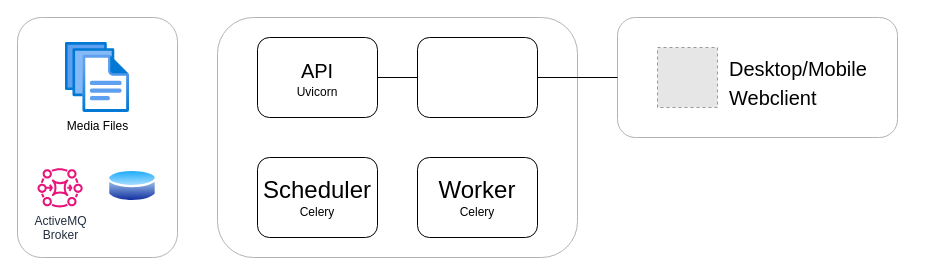
Some shapes in this 925 by 275 pixel diagram are drawn without their labels. Grey dashed boxes stand in for pictures. The centre of each missing label's shape, as x and y in pixels:
PostgreSQL DB: the point at 132,185
Web NGINX: the point at 477,77
